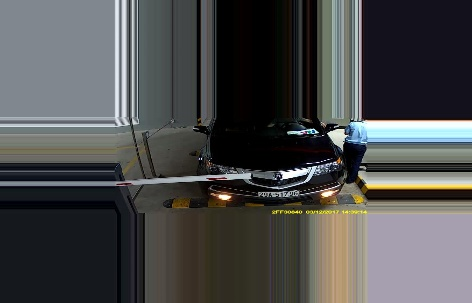plate: (257, 187, 301, 199)
